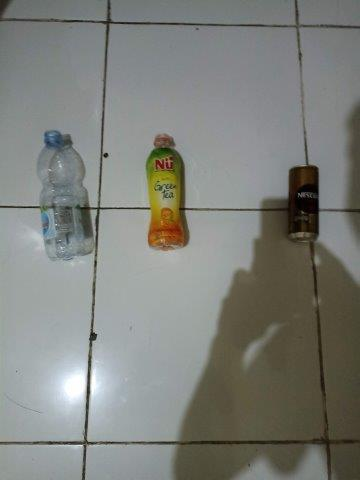botolplastik: (37, 131, 86, 260), (145, 134, 187, 251)
kaleng: (287, 164, 320, 243)
